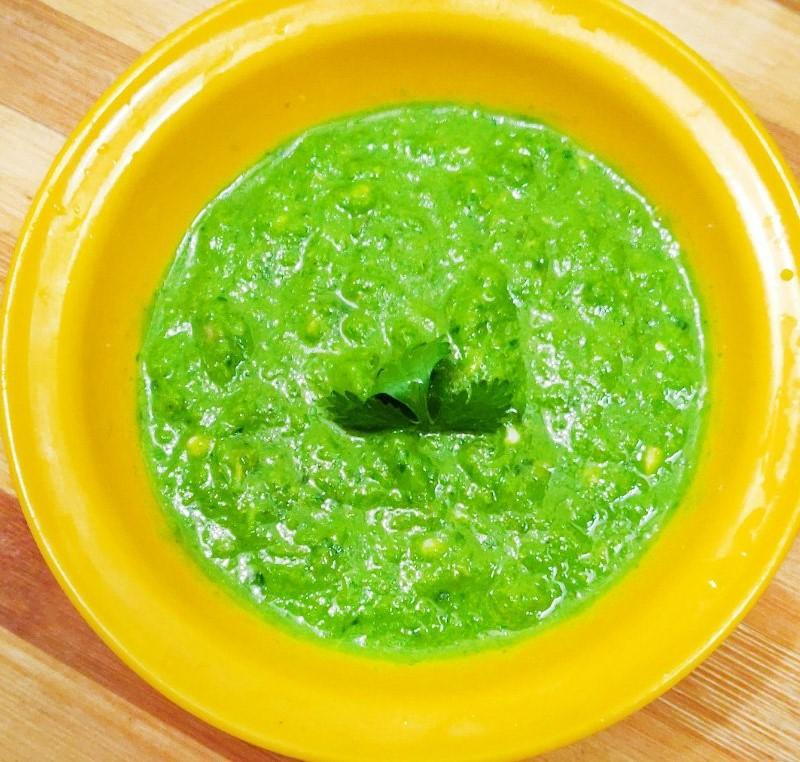GreenChutney: (141, 99, 708, 655)
